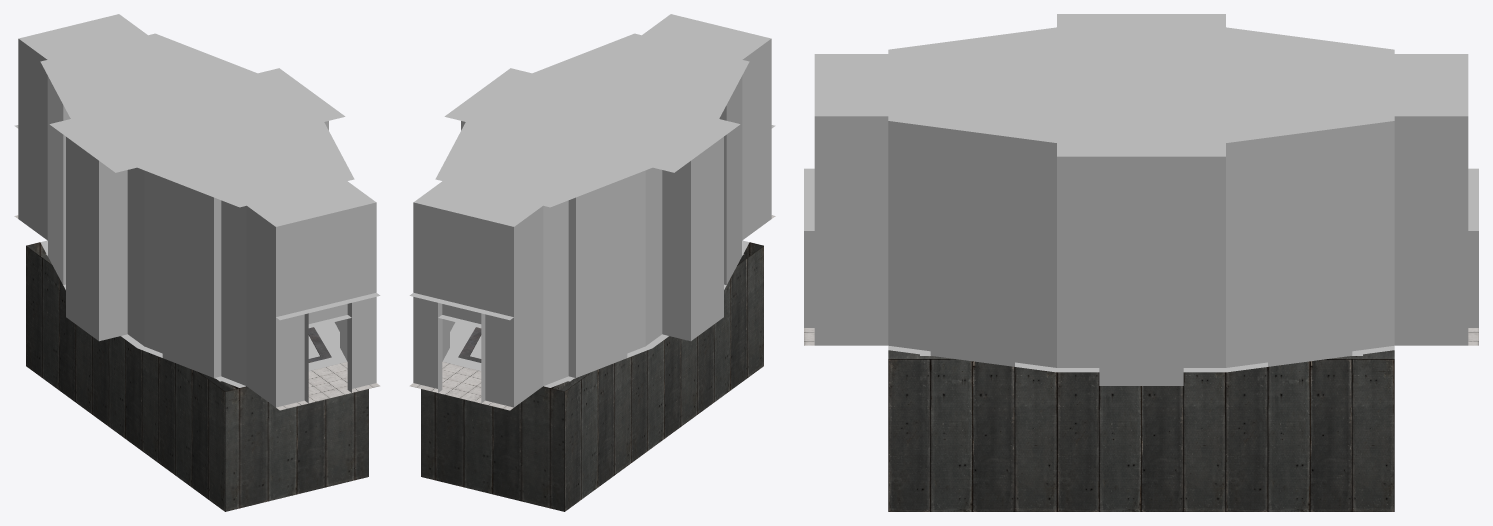
The model's file is Room2_11_LCZ.fbx.
3 renders of one model, left to right at view 1: azimuth 30°, elevation 25°; view 2: azimuth 150°, elevation 25°; view 3: azimuth 270°, elevation 25°, orthographic. The views are drawn at different scales.
Visible parts, largest first — view 1: whitewall, concretefloor, metalpanels, tilefloor; view 2: whitewall, concretefloor, metalpanels, tilefloor; view 3: whitewall, metalpanels, concretefloor.
Part boxes in pixels (x1,y1,x2,y2): whitewall: [14, 39, 380, 407]; concretefloor: [18, 14, 376, 387]; metalpanels: [26, 242, 368, 511]; tilefloor: [14, 215, 379, 410]; whitewall: [409, 39, 775, 407]; concretefloor: [413, 14, 771, 387]; metalpanels: [421, 242, 763, 511]; tilefloor: [410, 215, 775, 410]; whitewall: [804, 116, 1478, 385]; metalpanels: [888, 350, 1394, 511]; concretefloor: [814, 14, 1468, 372].
Size of the model in its own units: 10.24 by 12.8 by 20.48.
